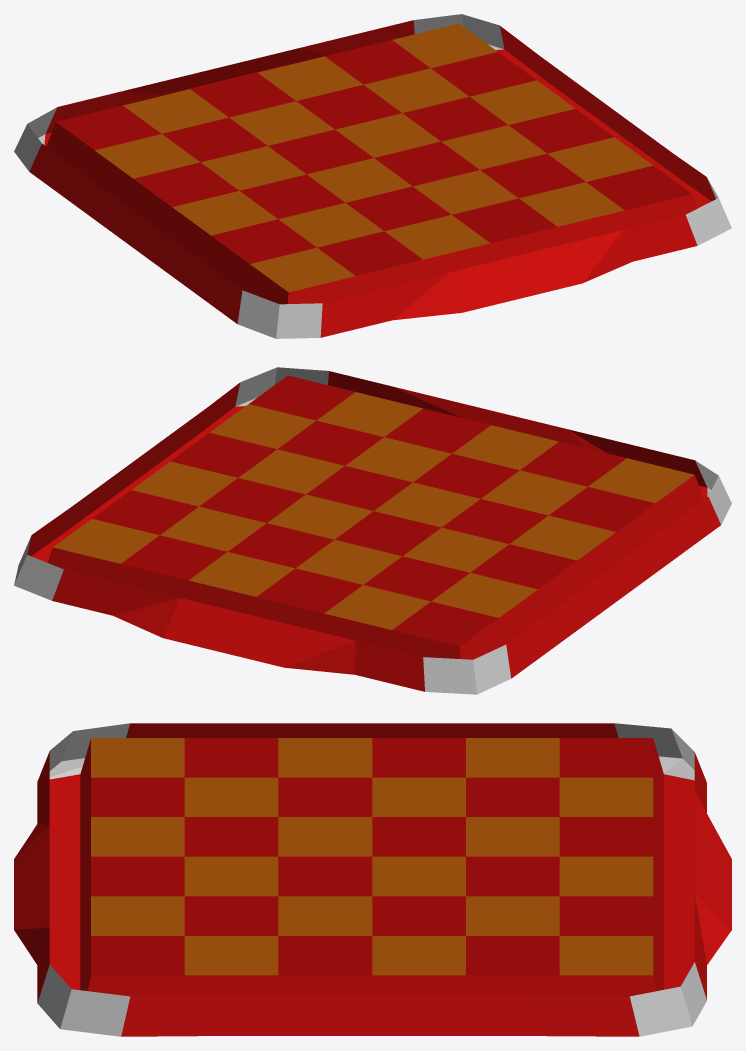
File: tray.obj
The picture shows the model from 3 angles, top to bottom: view 1: azimuth 30°, elevation 25°; view 2: azimuth 150°, elevation 25°; view 3: azimuth 270°, elevation 25°; orthographic projection. The views are drawn at different scales.
Parts seen in each view (by area): view 1: Plane.002_Plane.003; view 2: Plane.002_Plane.003; view 3: Plane.002_Plane.003.
Boxes of the visible parts, <box> form: Plane.002_Plane.003: <box>14,14,731,338</box>; Plane.002_Plane.003: <box>14,367,731,694</box>; Plane.002_Plane.003: <box>14,723,731,1036</box>.
Size of the model in its own units: 400 by 26.81 by 428.
